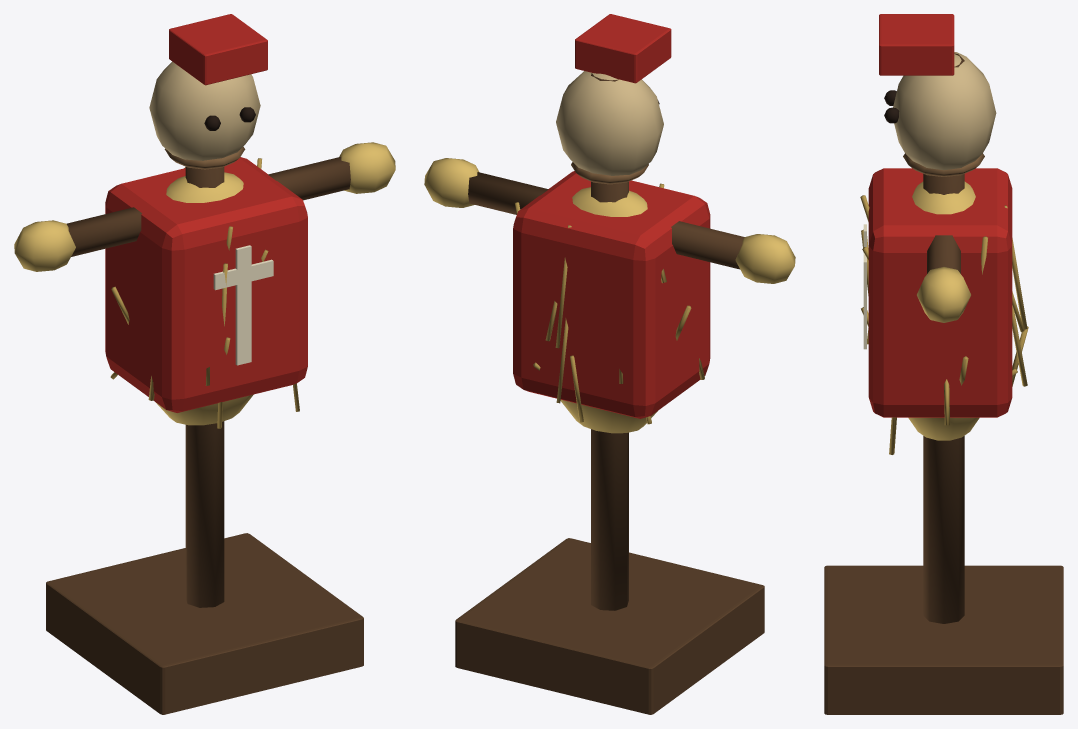
Rendered from uebungspuppe_rot.glb.
3 views of the same model, side by side, from view 1: azimuth 30°, elevation 25°; view 2: azimuth 150°, elevation 25°; view 3: azimuth 270°, elevation 25° (orthographic). The views are drawn at different scales.
Visible parts, largest first — view 1: Cube; view 2: Cube; view 3: Cube.
Boxes of the visible parts, bbox=[...] form: Cube: bbox=[14, 14, 395, 714]; Cube: bbox=[424, 14, 795, 714]; Cube: bbox=[824, 14, 1063, 714].
Bounding box in the file's own units: 1.31 × 2.05 × 0.7.
